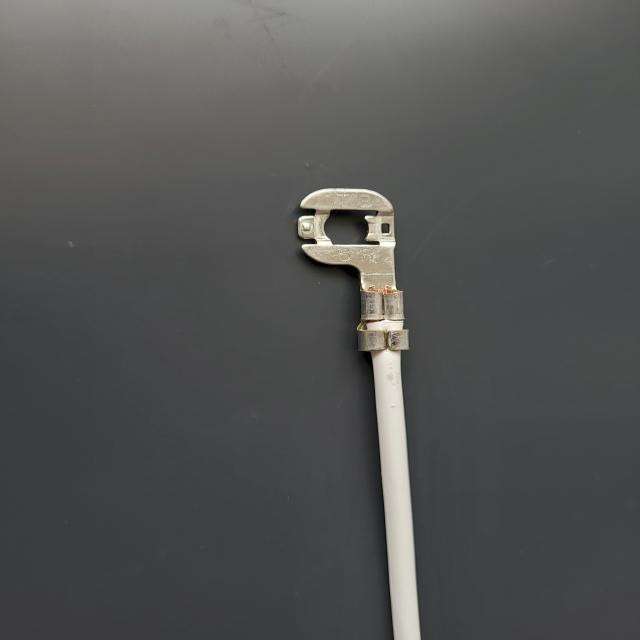good: (6, 2, 639, 639)
